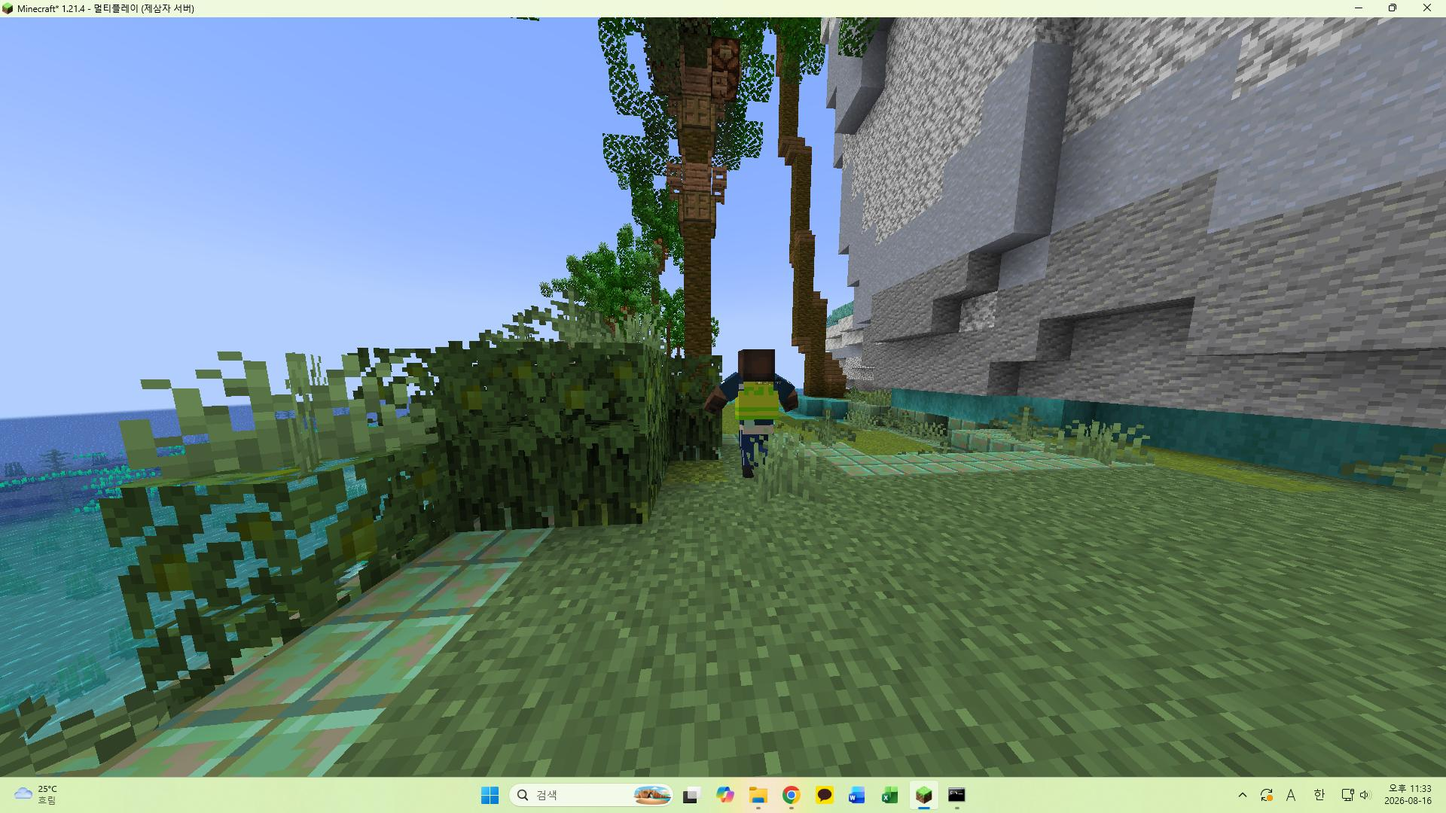Guardian: (704, 349, 798, 478)
